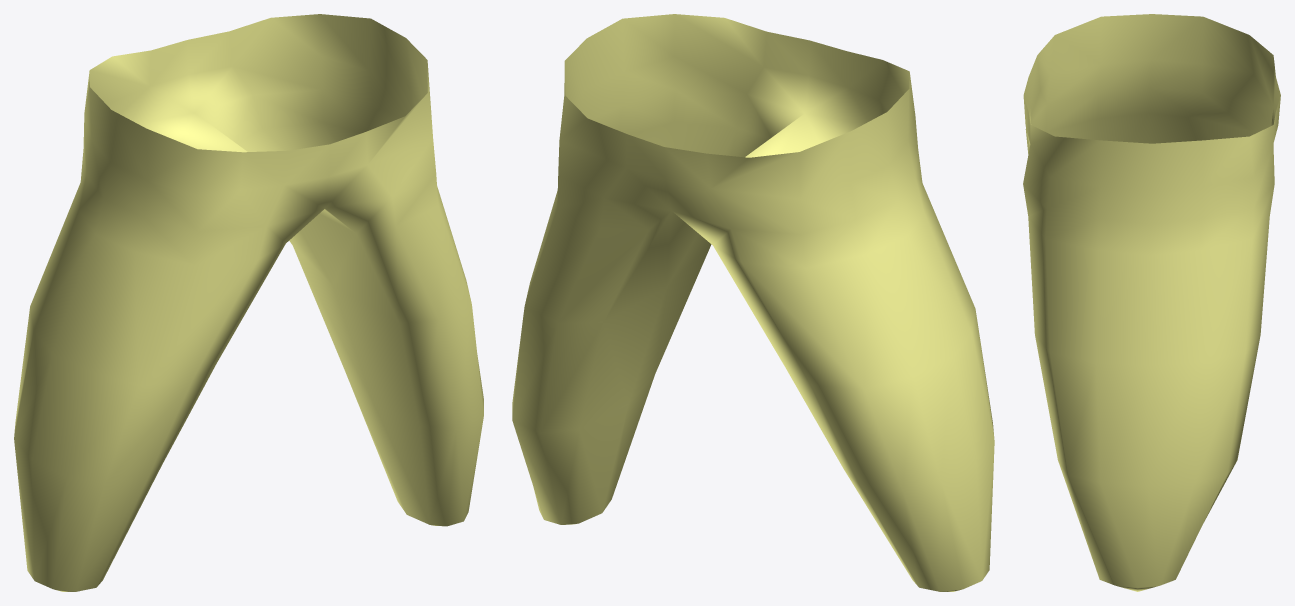
The model's file is D84R_Raiz.obj.
The picture shows the model from 3 angles, left to right: view 1: azimuth 30°, elevation 25°; view 2: azimuth 150°, elevation 25°; view 3: azimuth 270°, elevation 25°; orthographic projection. The views are drawn at different scales.
Parts seen in each view (by area): view 1: D84R_Raiz; view 2: D84R_Raiz; view 3: D84R_Raiz.
Part boxes in pixels (x1,y1,x2,y2): D84R_Raiz: (14, 14, 483, 591); D84R_Raiz: (512, 14, 994, 591); D84R_Raiz: (1023, 14, 1280, 591).
Size of the model in its own units: 9.61 by 10.26 by 5.46.
